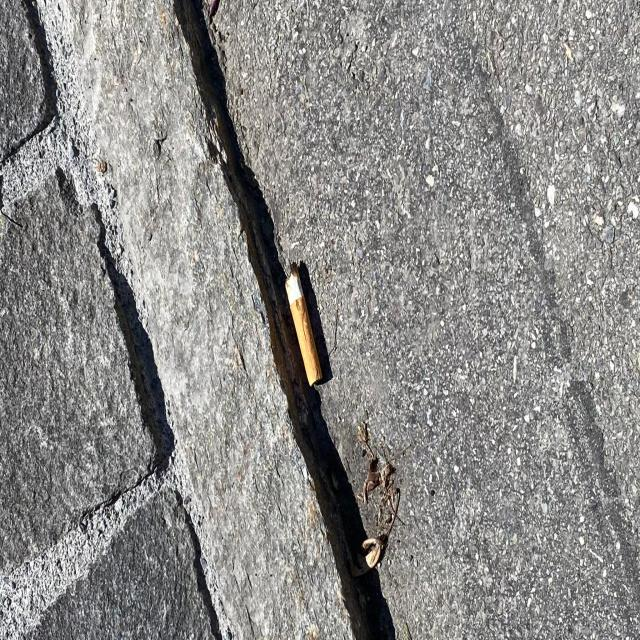other waste: (284, 261, 322, 388)
